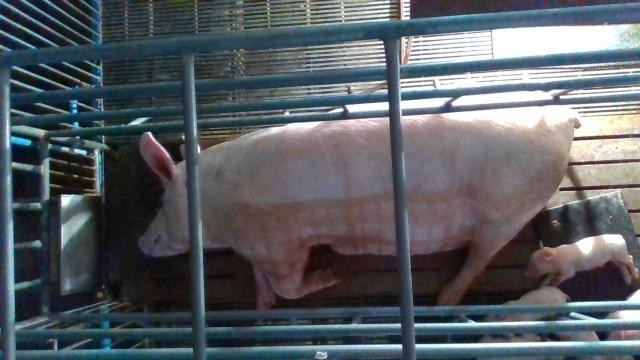piglet: (524, 232, 640, 287), (487, 286, 569, 322), (607, 290, 640, 358)
sow-sleep: (137, 88, 580, 328)
